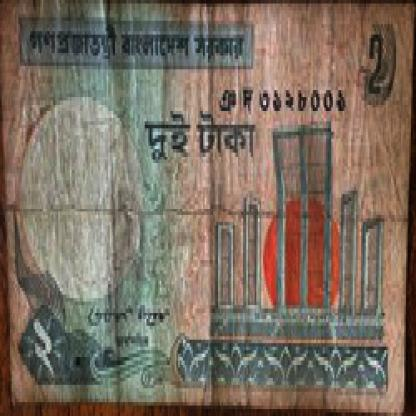two taka: (28, 302, 67, 398), (368, 28, 391, 135)
